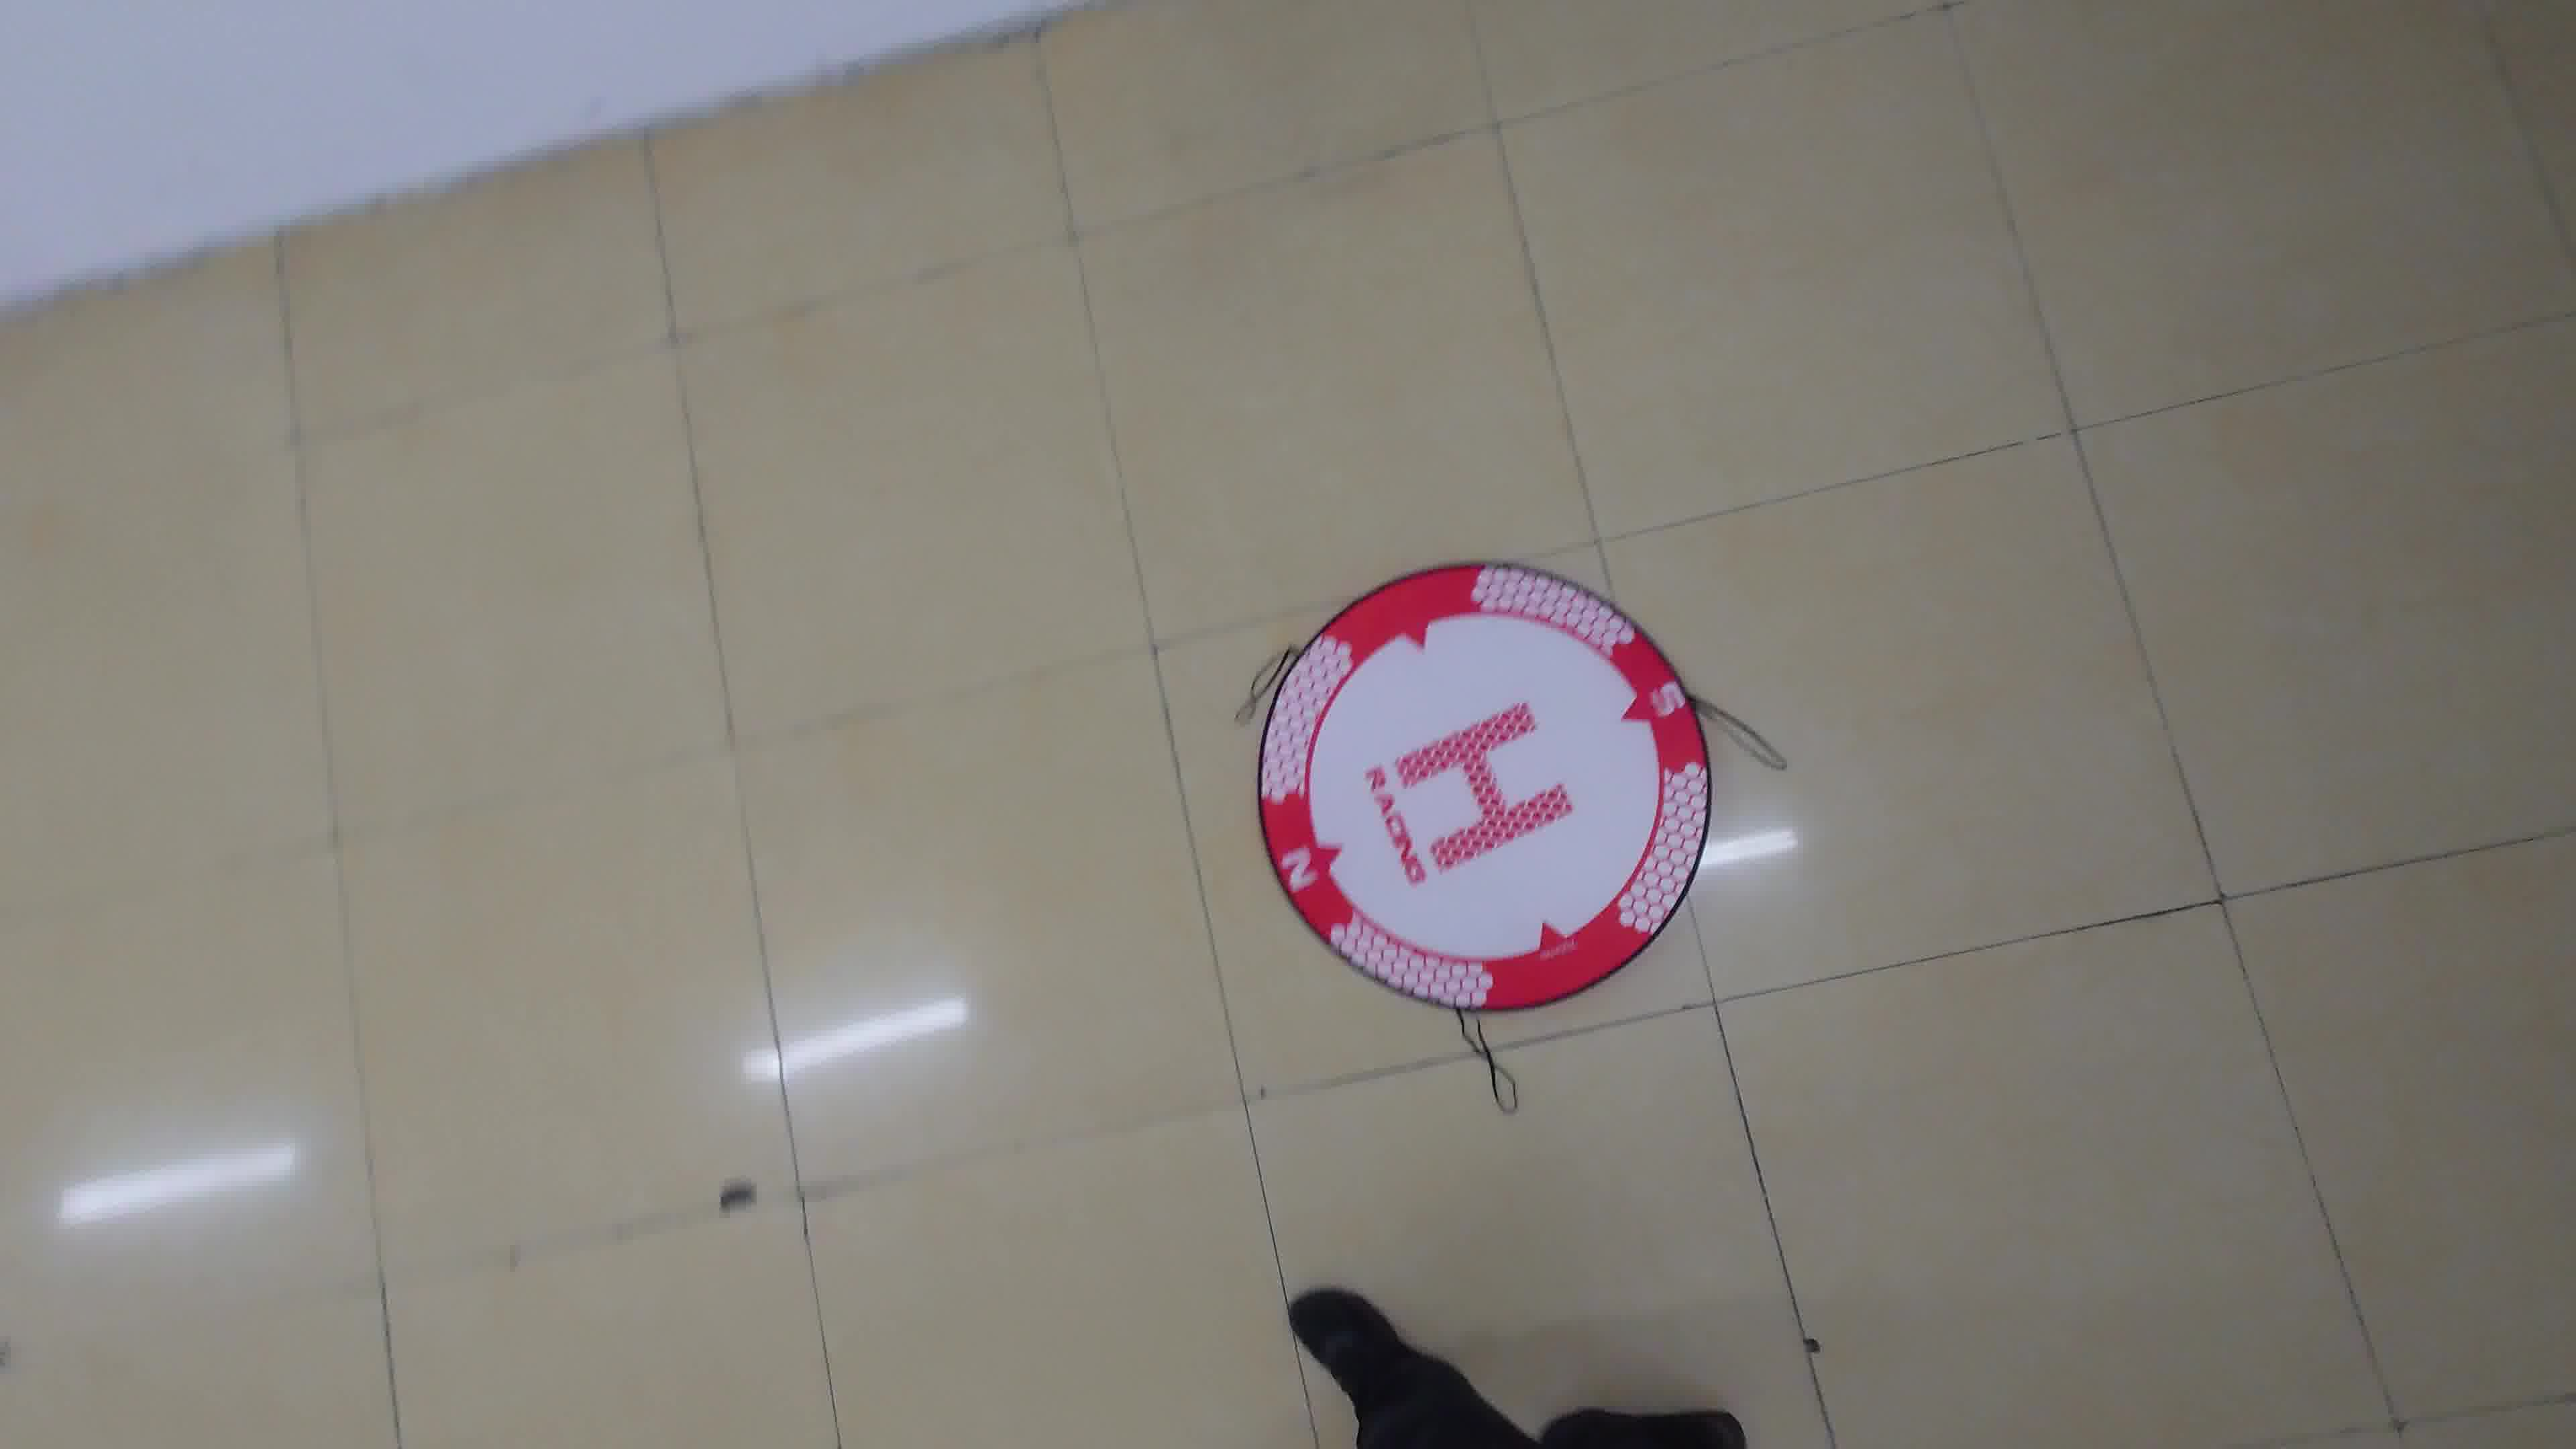H: (1394, 701, 1575, 874)
